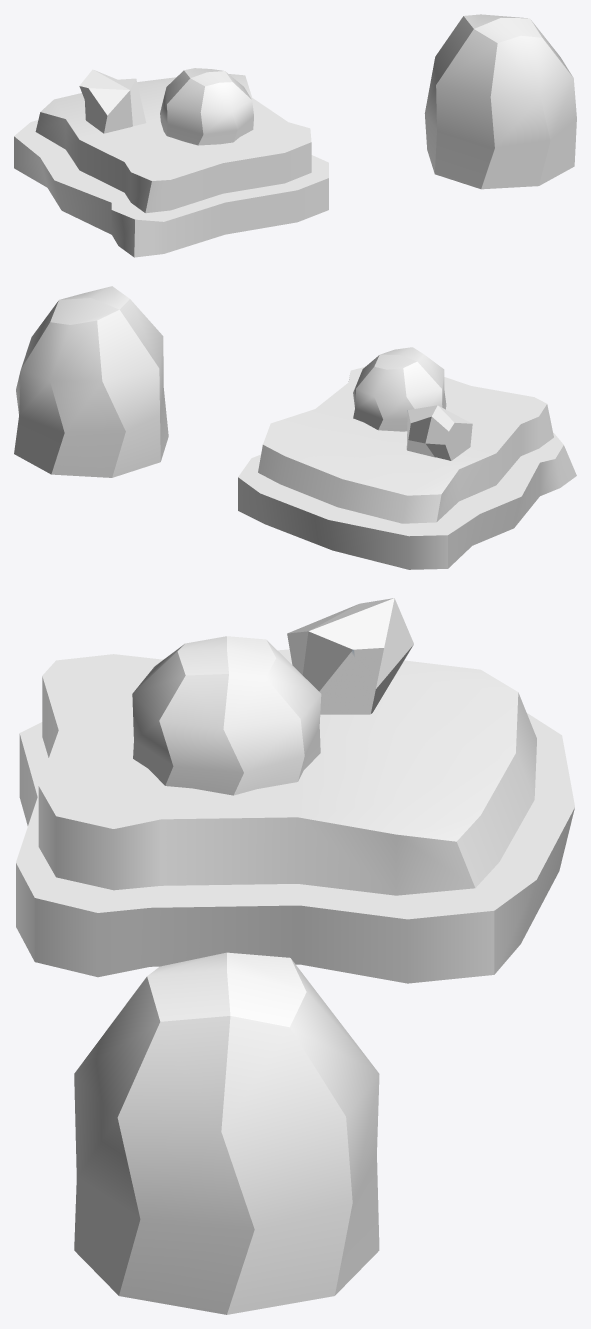
The model's file is Rocks.fbx.
3 renders of one model, top to bottom at view 1: azimuth 30°, elevation 25°; view 2: azimuth 150°, elevation 25°; view 3: azimuth 270°, elevation 25°, orthographic. The views are drawn at different scales.
Parts seen in each view (by area): view 1: Rocks1, Rocks, Rocks2, Rocks3, Stone; view 2: Rocks1, Rocks, Rocks2, Rocks3, Stone; view 3: Rocks1, Rocks, Rocks2, Rocks3, Stone.
Part boxes in pixels (x1=…): Rocks1: x1=424, y1=14, x2=576, y2=189; Rocks: x1=35, y1=74, x2=311, y2=213; Rocks2: x1=14, y1=120, x2=328, y2=257; Rocks3: x1=160, y1=68, x2=253, y2=145; Stone: x1=79, y1=69, x2=146, y2=133; Rocks1: x1=14, y1=286, x2=168, y2=477; Rocks: x1=258, y1=367, x2=553, y2=523; Rocks2: x1=238, y1=432, x2=576, y2=569; Rocks3: x1=353, y1=347, x2=446, y2=431; Stone: x1=406, y1=405, x2=472, y2=460; Rocks1: x1=74, y1=952, x2=379, y2=1314; Rocks: x1=38, y1=649, x2=536, y2=895; Rocks2: x1=16, y1=713, x2=574, y2=983; Rocks3: x1=132, y1=636, x2=321, y2=795; Stone: x1=287, y1=598, x2=413, y2=714.
Bounding box in the file's own units: 46.97 × 14.31 × 23.01.
